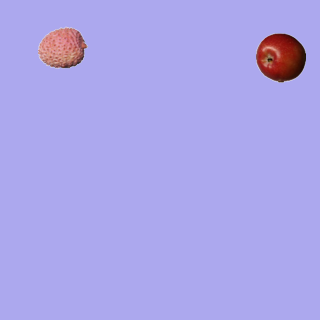Apple Braeburn: (255, 32, 305, 82)
Lychee: (37, 22, 87, 72)
